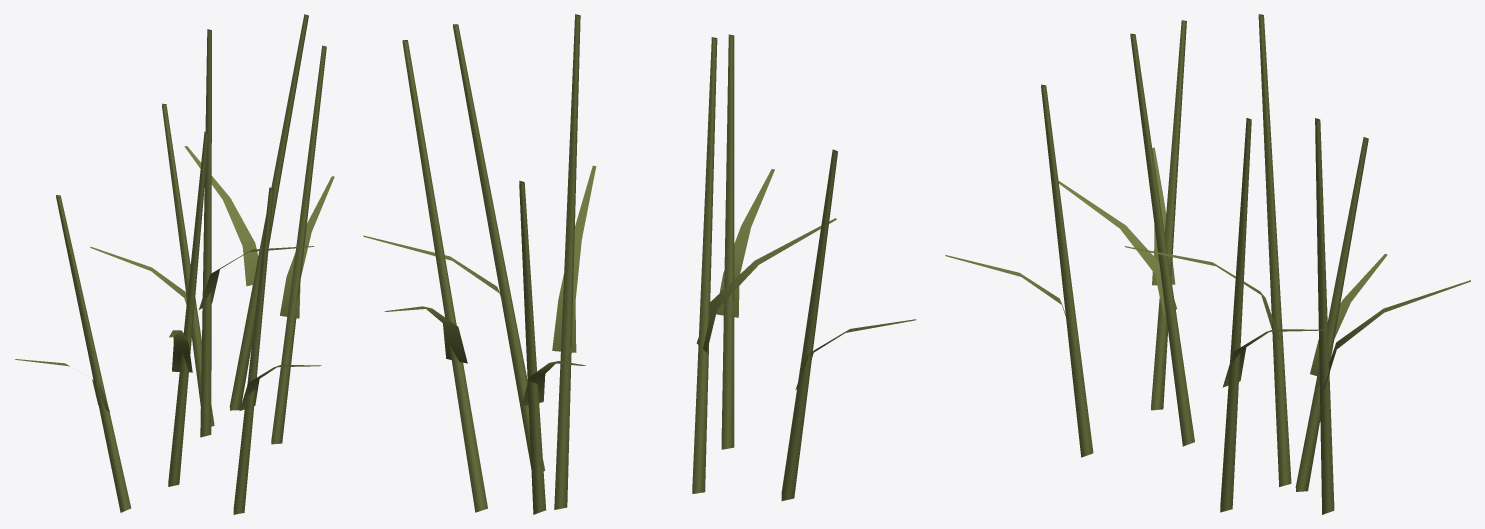
Rendered from caral_carrizo_lod1.glb.
3 views of the same model, side by side, from view 1: azimuth 30°, elevation 25°; view 2: azimuth 150°, elevation 25°; view 3: azimuth 270°, elevation 25° (orthographic). The views are drawn at different scales.
Parts seen in each view (by area): view 1: GEO-Kit_carrizo_LOD1; view 2: GEO-Kit_carrizo_LOD1; view 3: GEO-Kit_carrizo_LOD1.
Boxes of the visible parts, x1,y1,x2,y2 form: GEO-Kit_carrizo_LOD1: [15, 14, 334, 514]; GEO-Kit_carrizo_LOD1: [363, 14, 916, 514]; GEO-Kit_carrizo_LOD1: [945, 14, 1470, 514].
Bounding box in the file's own units: 2.19 × 2.19 × 2.23.
